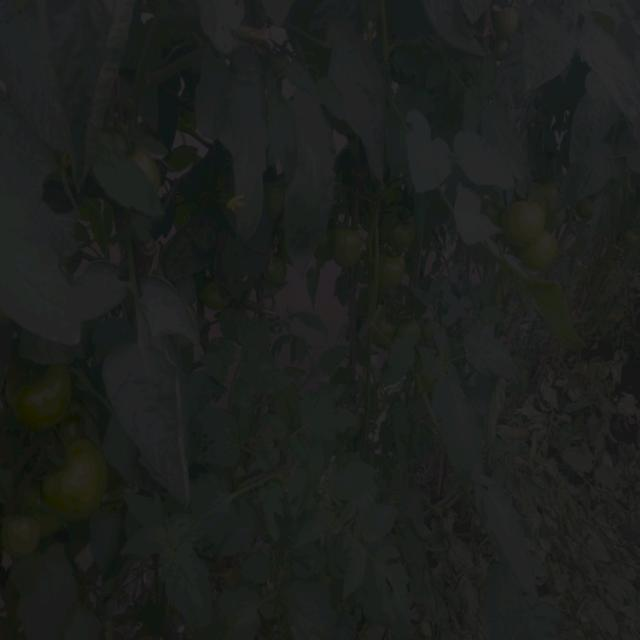tomato: (44, 441, 114, 516), (11, 370, 81, 432), (501, 196, 547, 245), (1, 505, 40, 560), (526, 232, 562, 275), (334, 225, 361, 273), (133, 148, 165, 188), (264, 249, 295, 287), (491, 1, 523, 34), (375, 252, 405, 285), (200, 282, 230, 314), (375, 316, 398, 355), (390, 228, 420, 247), (407, 319, 427, 347)
